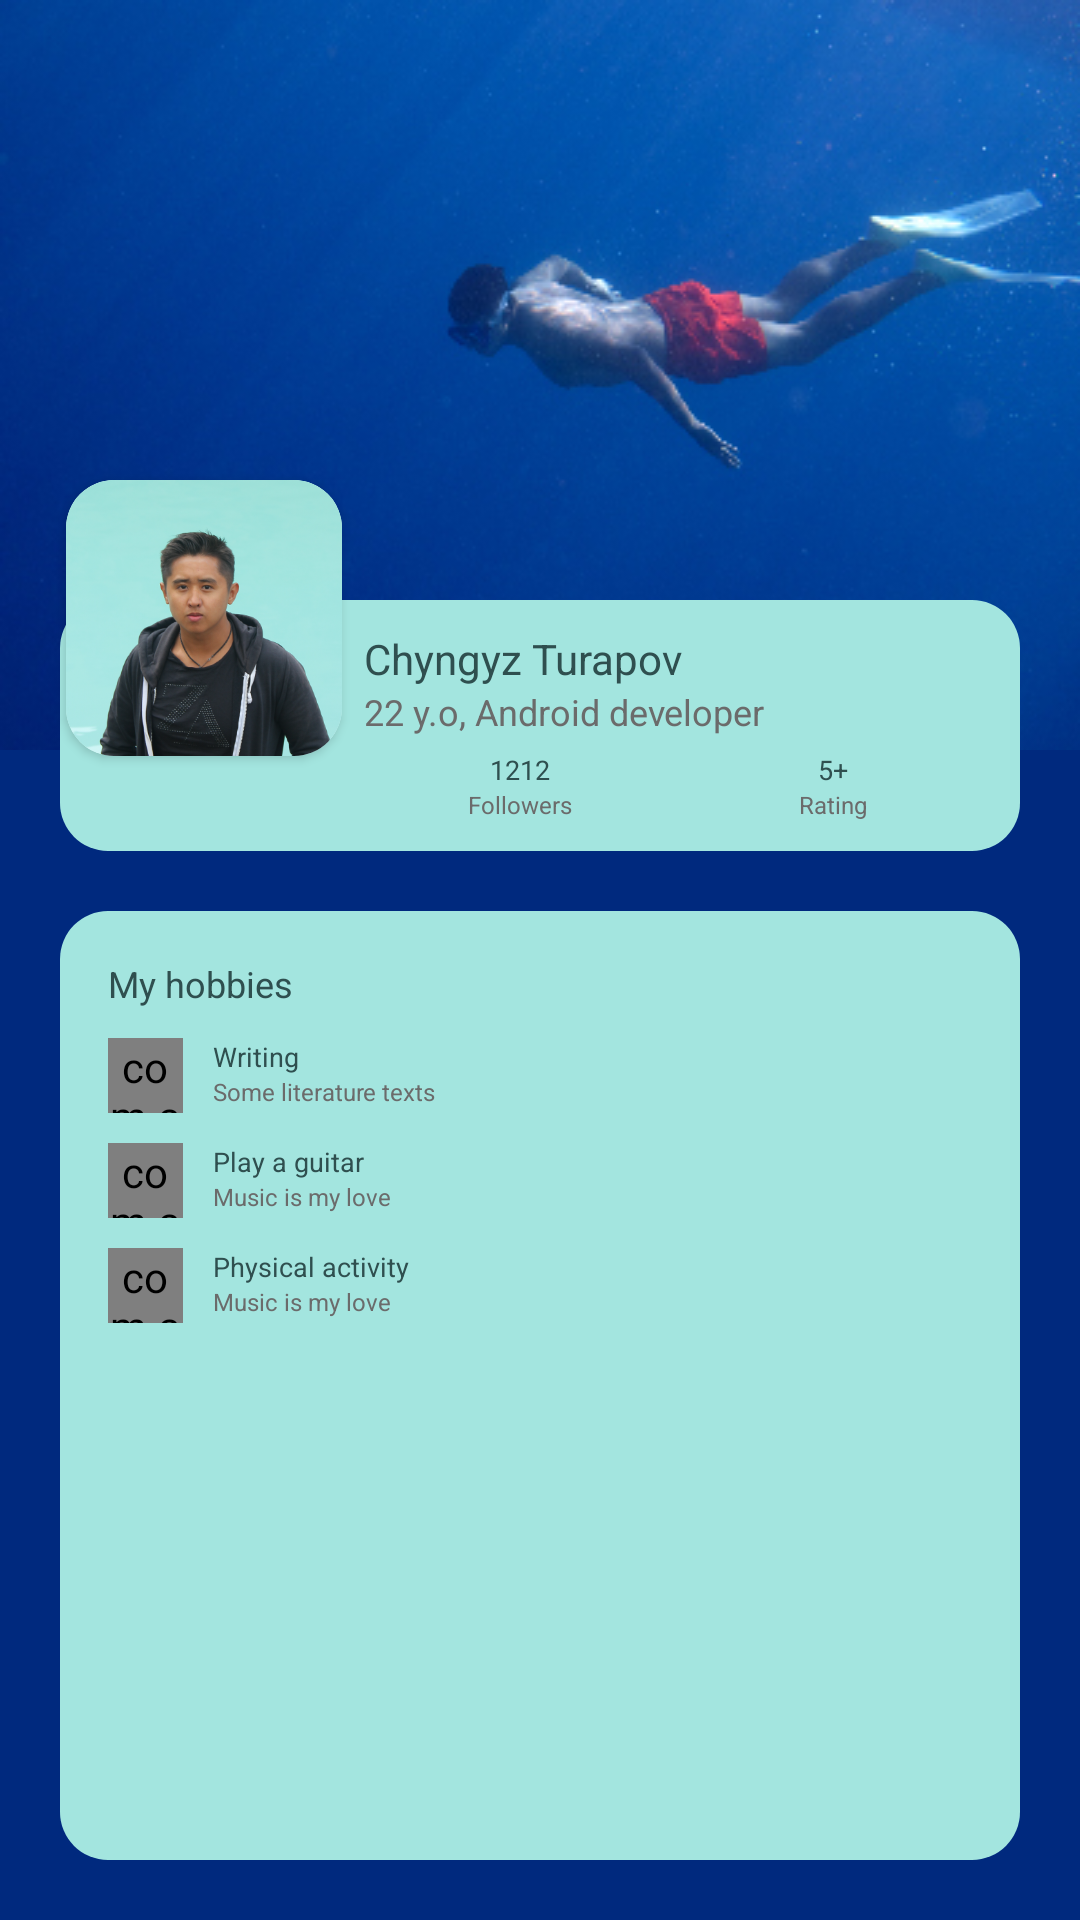

Point at icon controls on the screen. Image size 1080w x 1920h, points as (x,y).
avatarka: (204,618)
